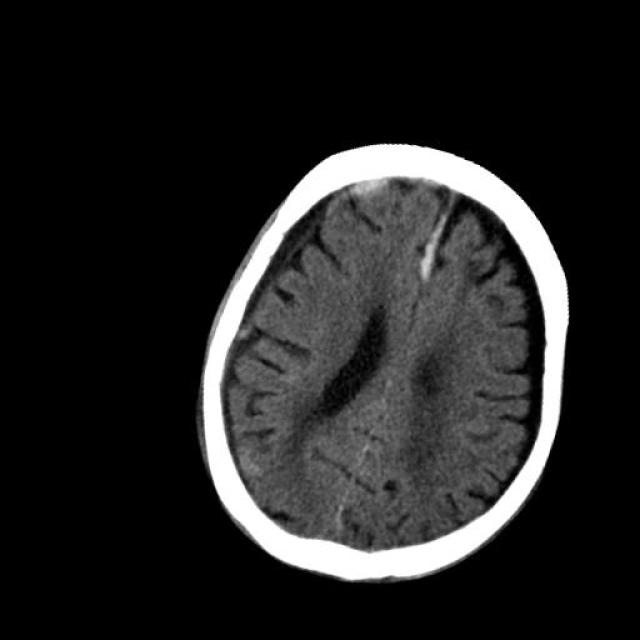Subdural: (394, 162, 481, 308), (308, 157, 414, 249)
